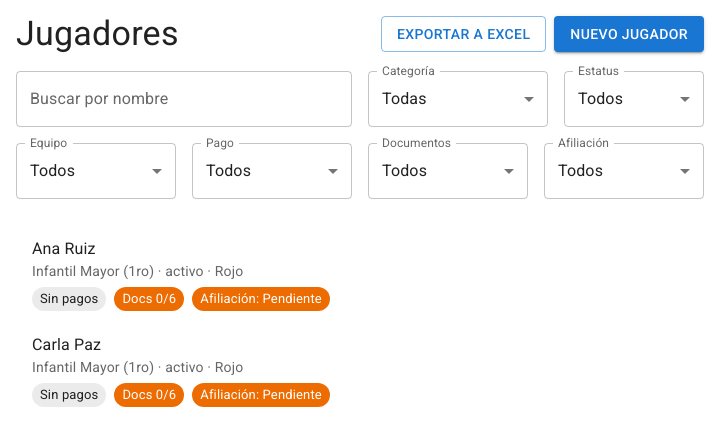
Scenario: team filter distinguishes teams that share a name
Expected: the text "Carla Paz" is shown, [32,335,101,354]
Select "Rojo" in the dropdown labelled "Equipo": [96, 171] box [16,143,176,199]
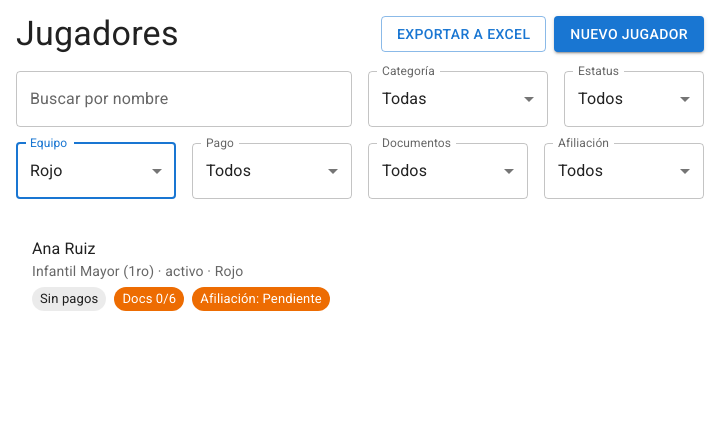
Expected: the text "Ana Ruiz" is shown, [32,239,96,258]
Expected: the link "Carla Paz" is gone
